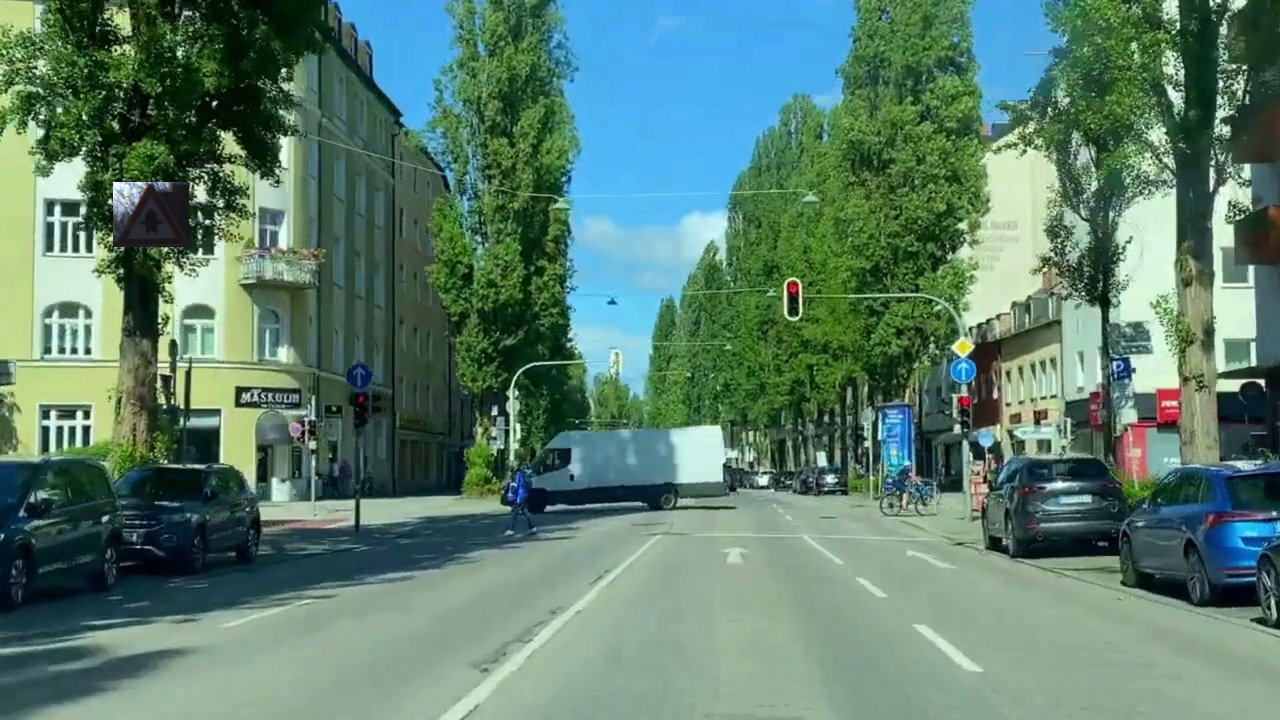Right-of-way: (113, 182, 189, 247)
